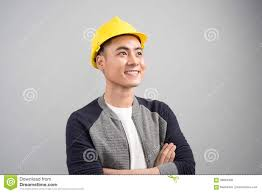Person_wearing_helmet: (82, 16, 150, 65)
